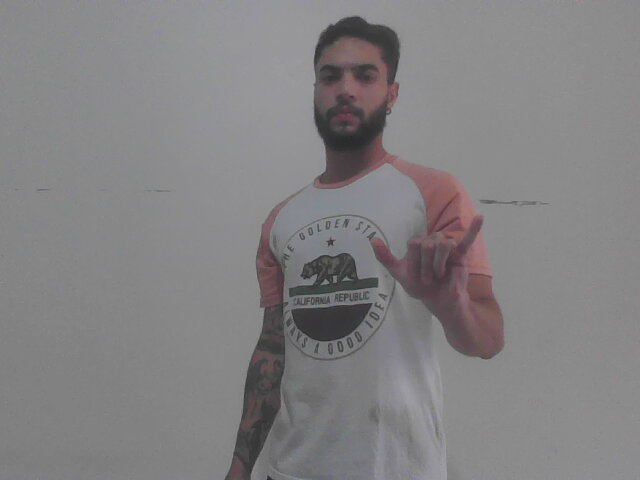y: (364, 211, 486, 315)
